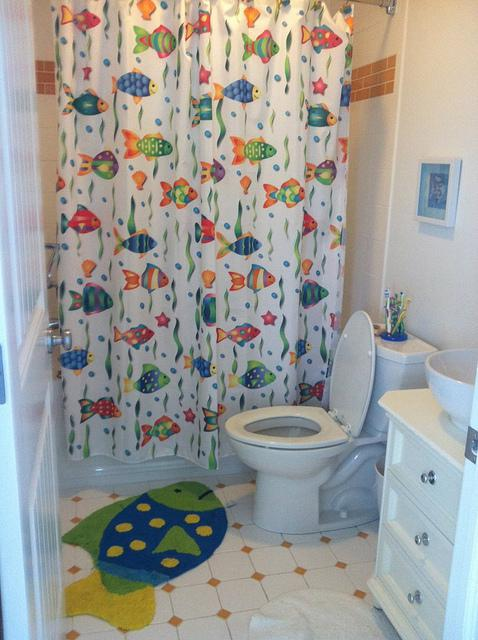Ducha: (39, 15, 356, 476)
Sanitario: (223, 305, 429, 538)
